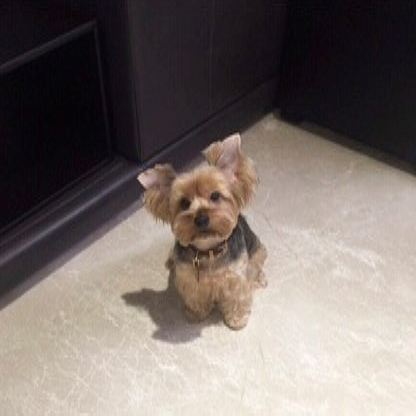yorkshire: (135, 130, 270, 330)
